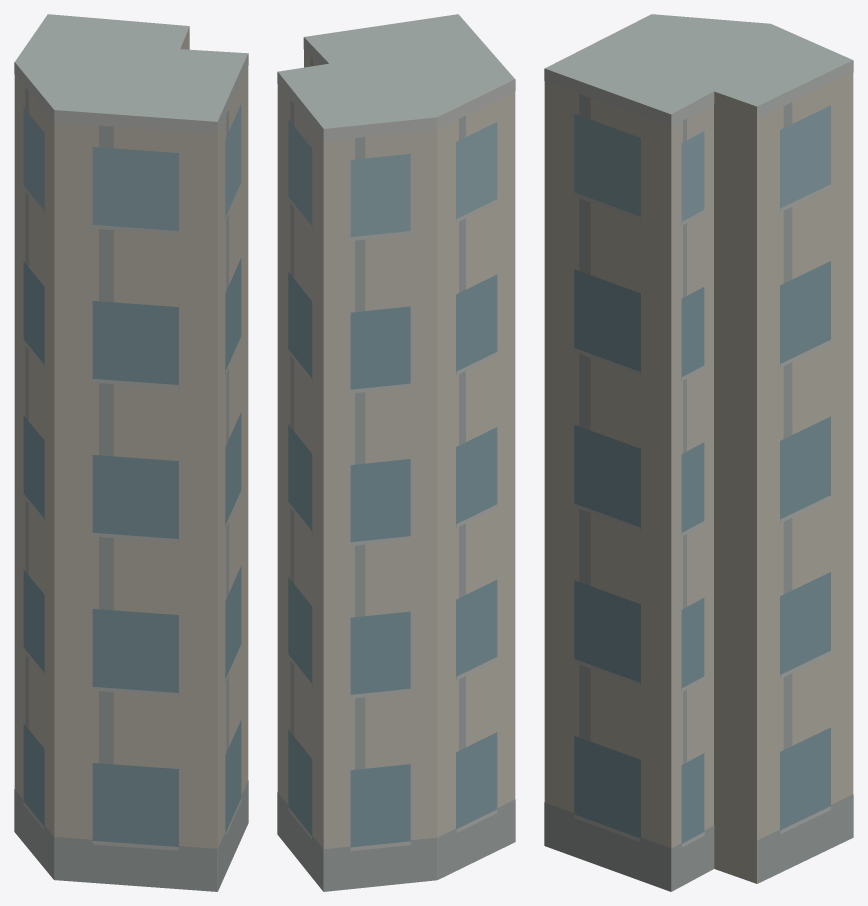
Rendered from survey-upis-32700019.glb.
The picture shows the model from 3 angles, left to right: view 1: azimuth 30°, elevation 25°; view 2: azimuth 150°, elevation 25°; view 3: azimuth 270°, elevation 25°; orthographic projection.
Parts seen in each view (by area): view 1: survey-upis-32700019.tmp; view 2: survey-upis-32700019.tmp; view 3: survey-upis-32700019.tmp.
Boxes of the visible parts, <box> form: survey-upis-32700019.tmp: <box>14,14,248,891</box>; survey-upis-32700019.tmp: <box>277,14,515,891</box>; survey-upis-32700019.tmp: <box>544,14,853,891</box>.
Bounding box in the file's own units: 4.23 × 15.25 × 5.5.
